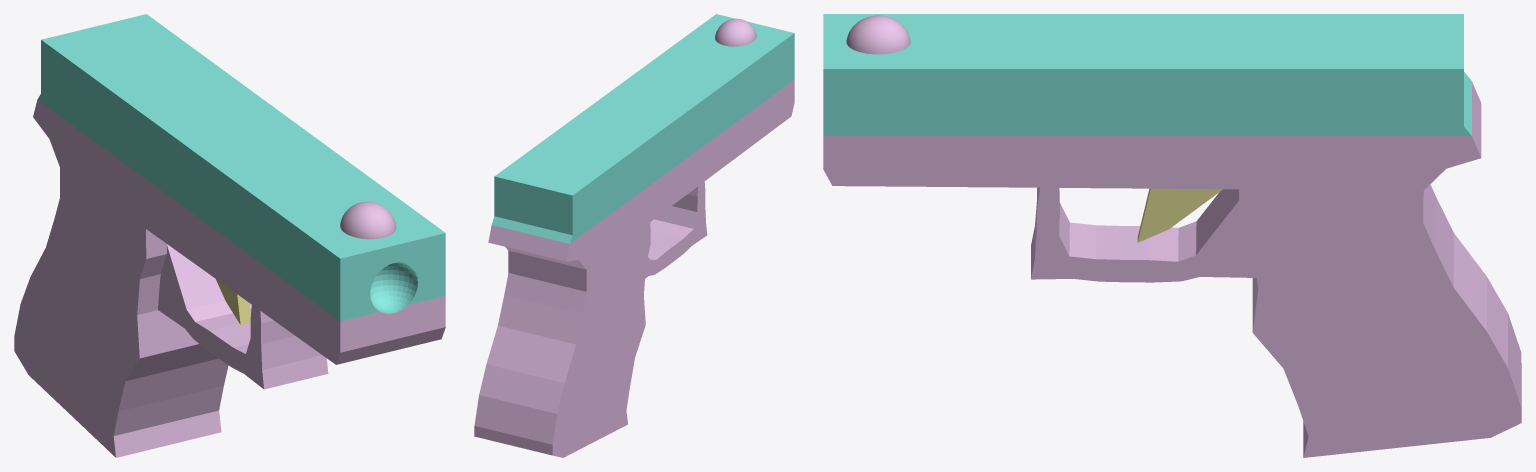
File: gumball pistol.fbx
The picture shows the model from 3 angles, left to right: view 1: azimuth 30°, elevation 25°; view 2: azimuth 150°, elevation 25°; view 3: azimuth 270°, elevation 25°; orthographic projection. The views are drawn at different scales.
Visible parts, largest first — view 1: GunBase, GunBase.002, GunBase.001, GunBase.005, GunBase.003, Gumball.002, Trigger; view 2: GunBase, GunBase.002, GunBase.001, GunBase.005, GunBase.004, Gumball.002; view 3: GunBase, GunBase.001, GunBase.002, Trigger, Gumball.002.
Part boxes in pixels (x1,y1,x2,y2): GunBase: [14, 117, 445, 457]; GunBase.002: [41, 14, 445, 258]; GunBase.001: [37, 40, 445, 321]; GunBase.005: [33, 100, 340, 344]; GunBase.003: [340, 295, 445, 344]; Gumball.002: [340, 201, 396, 239]; Trigger: [216, 279, 250, 324]; GunBase: [474, 97, 794, 457]; GunBase.002: [494, 14, 793, 195]; GunBase.001: [491, 33, 794, 243]; GunBase.005: [566, 79, 794, 261]; GunBase.004: [488, 225, 569, 261]; Gumball.002: [715, 18, 756, 46]; GunBase: [823, 136, 1521, 457]; GunBase.001: [823, 69, 1471, 135]; GunBase.002: [823, 14, 1463, 68]; Trigger: [1137, 188, 1222, 242]; Gumball.002: [846, 15, 910, 54].
Size of the model in its own units: 70 by 245 by 375.
